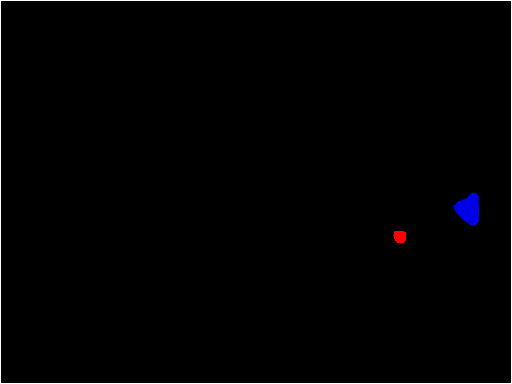chipped: (459, 199, 479, 223)
detached: (392, 228, 406, 244)
